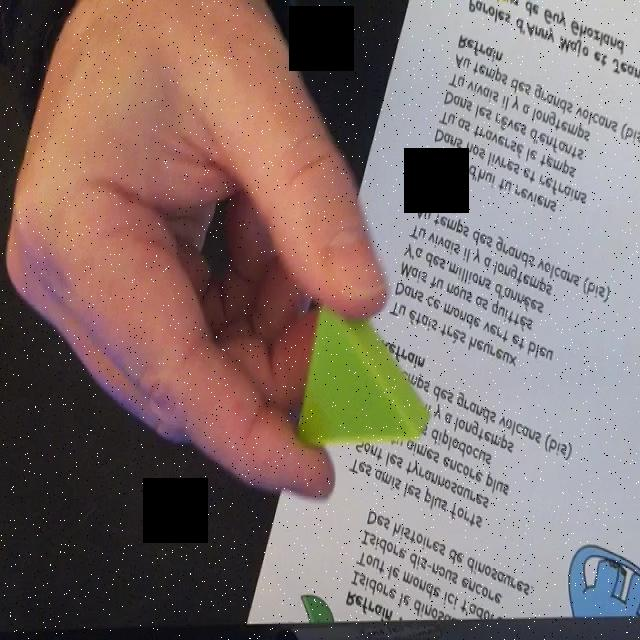triangle: (294, 293, 430, 451)
